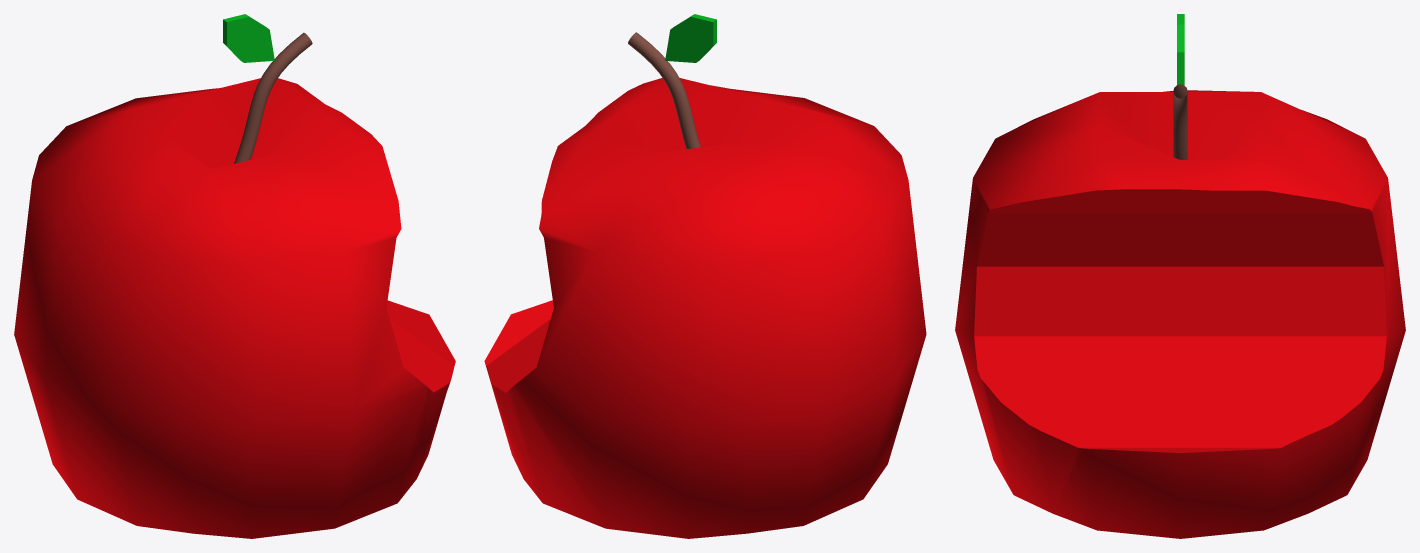
The model's file is Cut_apple.fbx.
3 views of the same model, side by side, from view 1: azimuth 30°, elevation 25°; view 2: azimuth 150°, elevation 25°; view 3: azimuth 270°, elevation 25° (orthographic).
Visible parts, largest first — view 1: Base.007, Base.008, happa.001; view 2: Base.007, Base.008, happa.001; view 3: Base.007, Base.008, happa.001.
Part boxes in pixels (x1,y1,x2,y2): Base.007: (14,78,455,538); Base.008: (234,32,312,163); happa.001: (223,14,274,62); Base.007: (484,78,926,538); Base.008: (628,32,700,148); happa.001: (665,14,716,62); Base.007: (955,90,1405,538); Base.008: (1173,84,1187,159); happa.001: (1177,14,1184,85).
Size of the model in its own units: 1.16 by 1.36 by 1.19.
